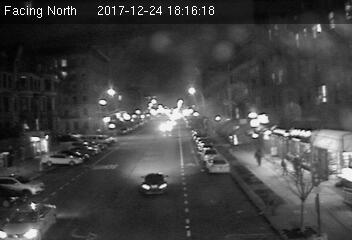car: (138, 170, 171, 196), (207, 157, 229, 173)
